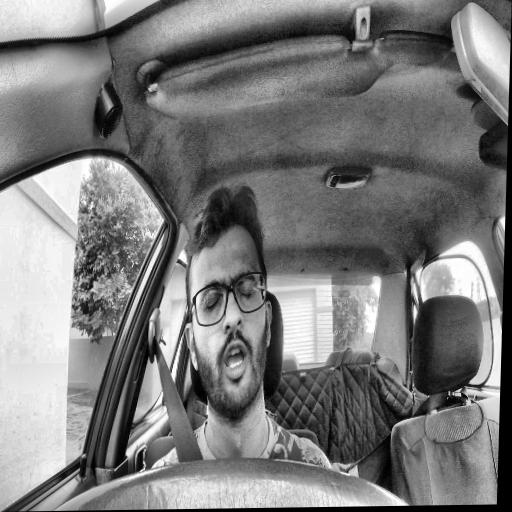drowsy: (181, 184, 276, 425)
